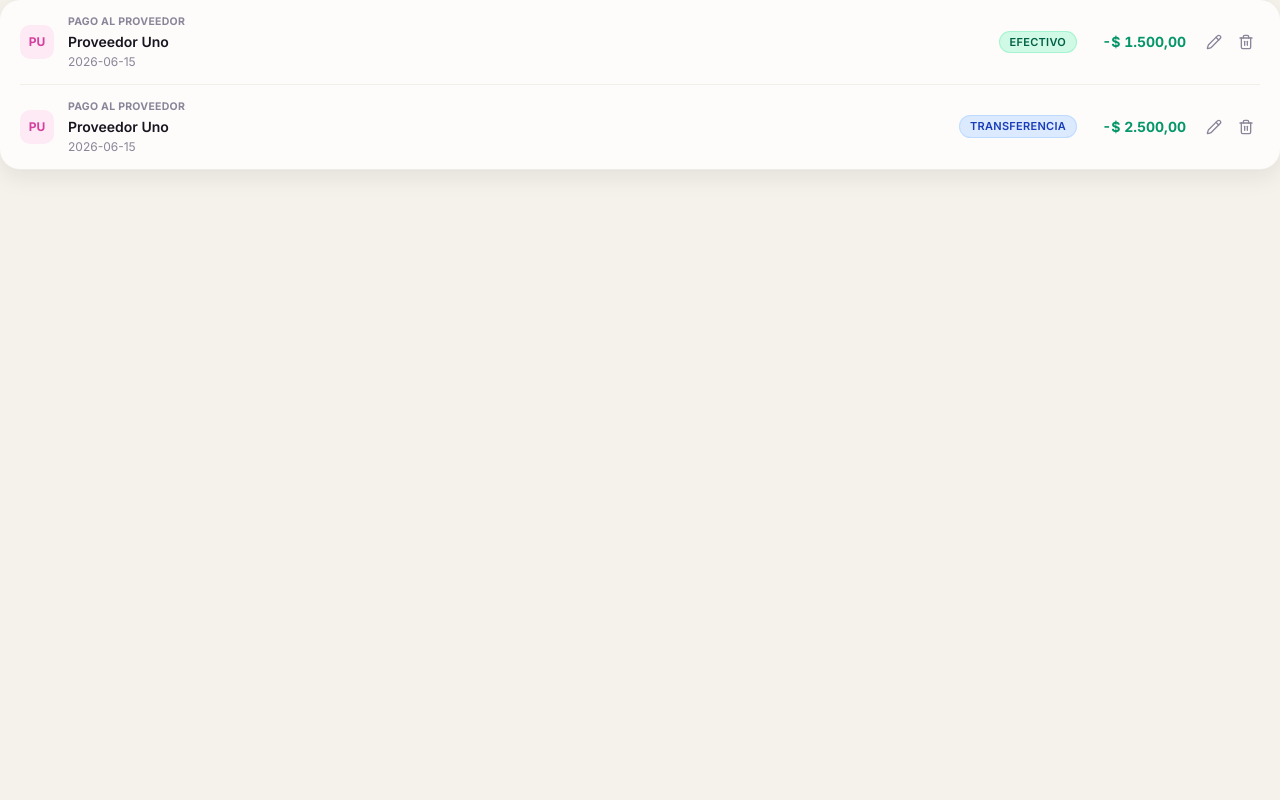
it: PagosList — read-only detail dialog › offers the comprobante action once the full pago lands with one
Expected: the text "EFECTIVO" is shown, [1000,32,1076,52]
Click the button with aria-label "ver detalle del pago pago-1" at (37, 42), box [20,14,1186,70]
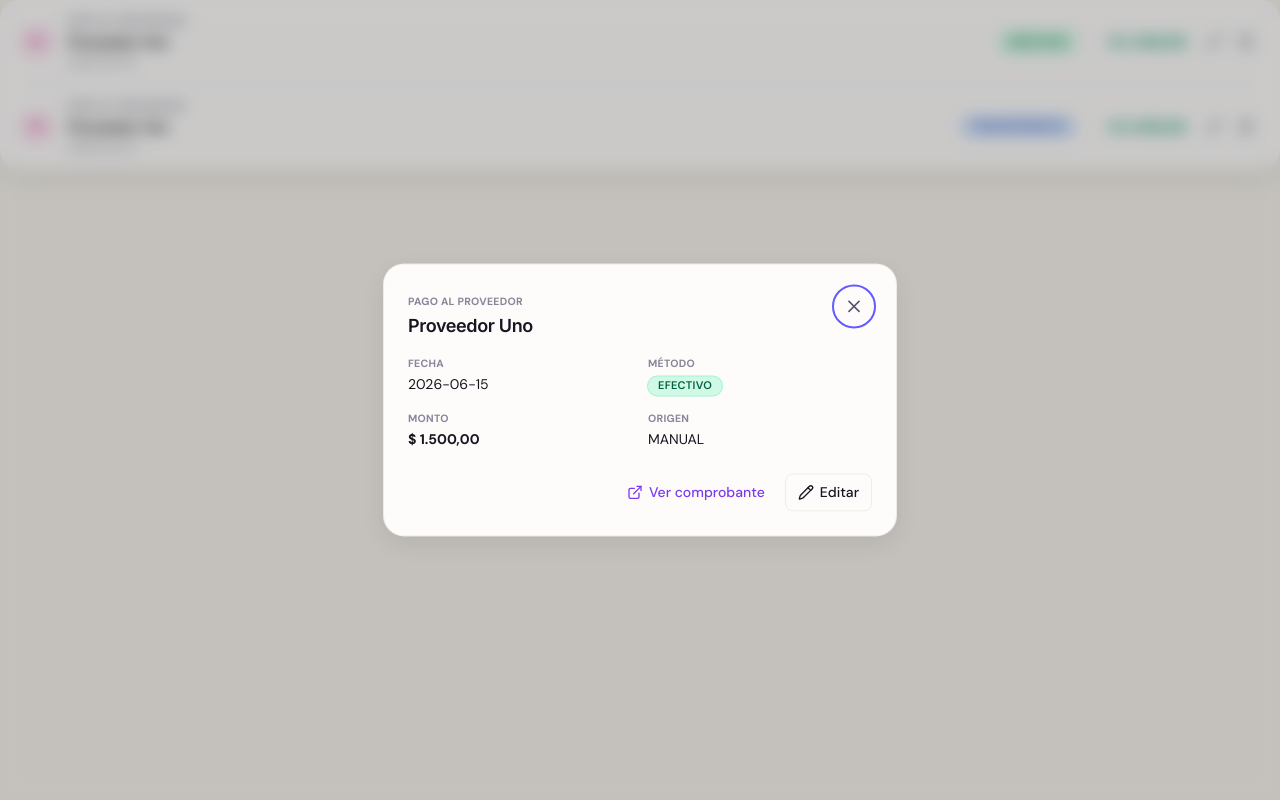
Result: the button "Ver comprobante" is shown at [615,475,777,511]
